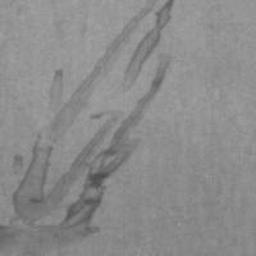Water spot: (0, 0, 177, 256)
